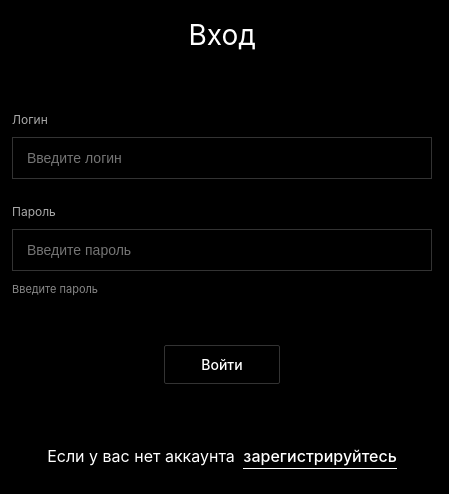
Scenario: LoginPage › показывает текст ошибки при неуспешном логине
The image size is (449, 494).
Type "user12345" into the field with placeholder "Введите логин". click: (222, 158)
box: [12,137,432,179]
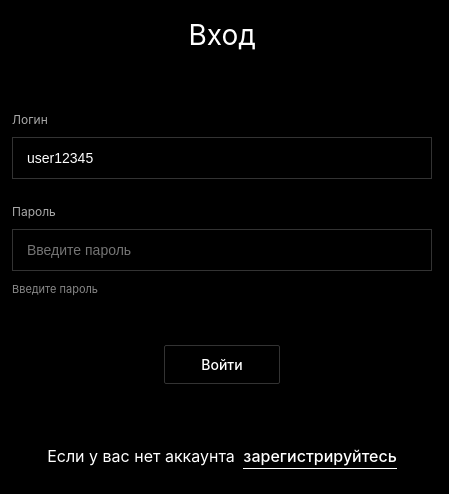
Type "Password1" into the password field with placeholder "Введите пароль". click: (222, 250)
box: [12,229,432,271]
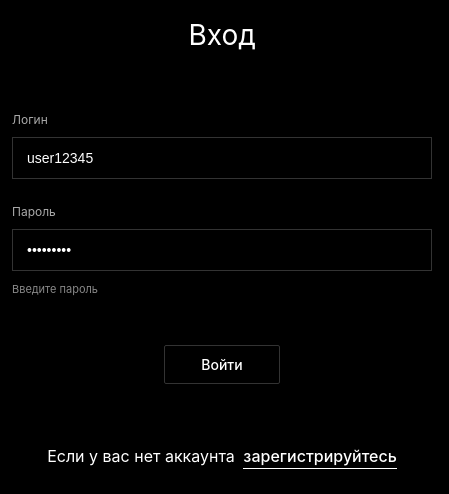
Click the button "Войти". click: (222, 365)
box: [164,345,280,384]
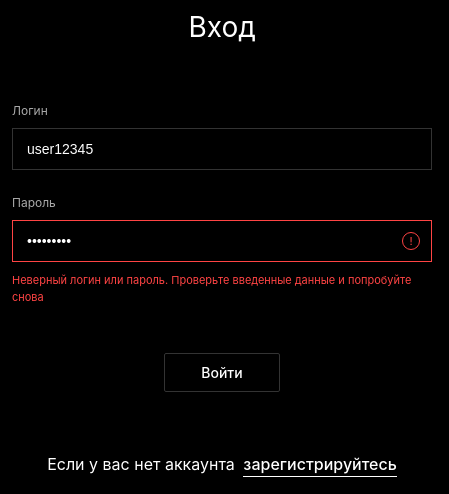
Check: the text "Неверный логин или пароль. Проверьте введенные данные и попробуйте снова" is shown, box [12,272,432,305]
